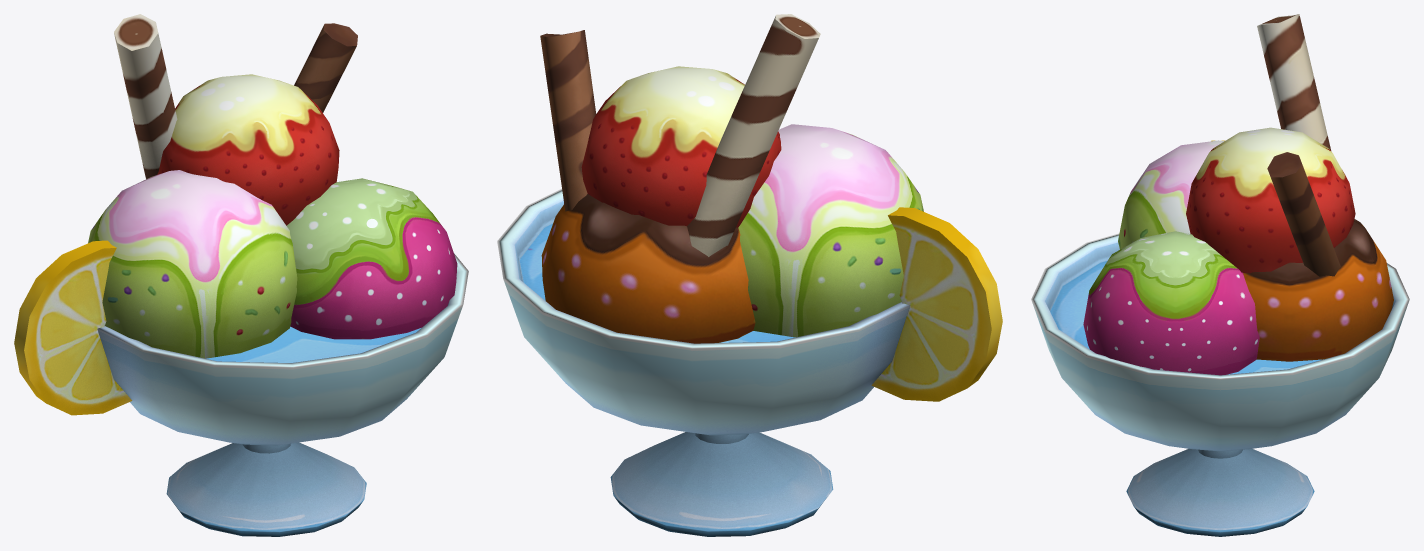
The model's file is IceCream.fbx.
3 views of the same model, side by side, from view 1: azimuth 30°, elevation 25°; view 2: azimuth 150°, elevation 25°; view 3: azimuth 270°, elevation 25° (orthographic). The views are drawn at different scales.
Visible parts, largest first — view 1: 058; view 2: 058; view 3: 058.
Boxes of the visible parts, x1=… form: 058: x1=14, y1=14, x2=468, y2=536; 058: x1=497, y1=14, x2=1002, y2=536; 058: x1=1031, y1=14, x2=1409, y2=536.
Size of the model in its own units: 46.14 by 49.53 by 38.35.
Materials: 1 (1 with a texture image).
